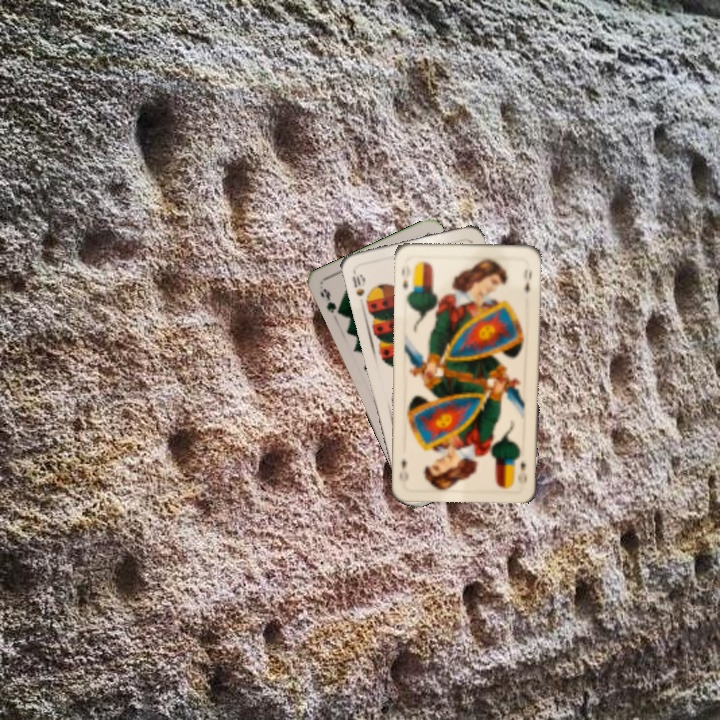EO: (515, 457, 530, 486), (399, 276, 416, 297)
G9: (316, 284, 345, 318)
S10: (348, 270, 367, 299)
